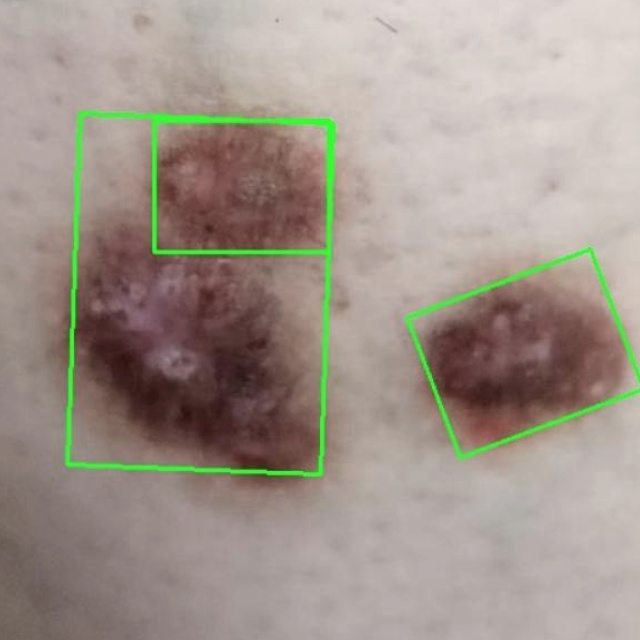Eczema: (66, 114, 332, 474), (407, 249, 639, 458), (154, 120, 329, 252)
